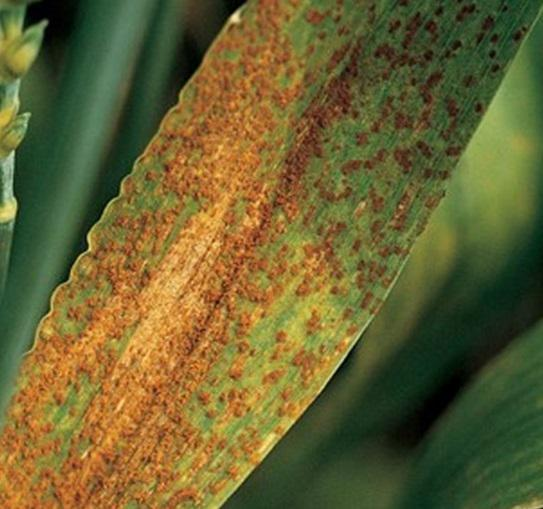Wheat: (154, 139, 381, 291), (239, 5, 469, 125), (61, 301, 302, 411), (1, 419, 207, 506), (96, 228, 151, 290), (393, 138, 436, 198), (186, 85, 234, 138), (215, 420, 261, 470)
